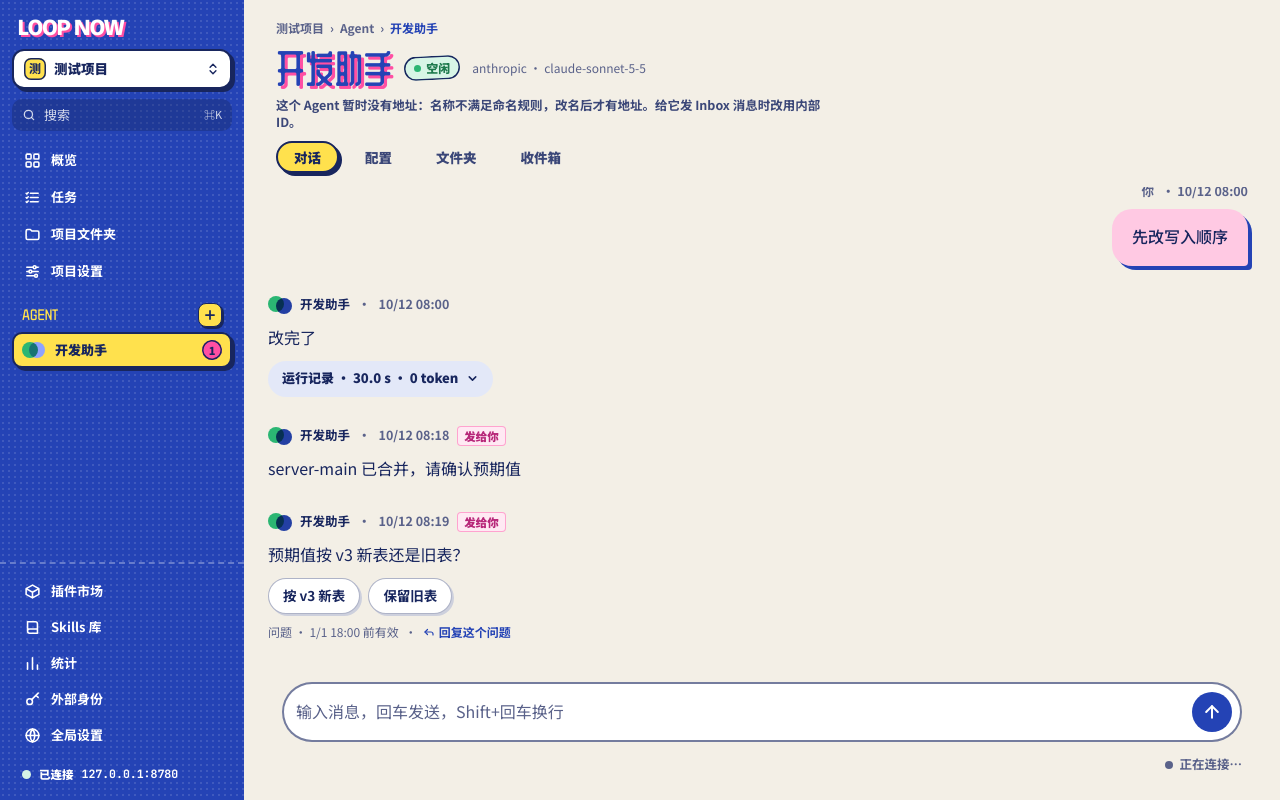
Test: Agent 对话里发给你的消息 › 文字没有记为答案（响应的 answerTo 不是原题）时说明已存为普通留言
The width and height of the screenshot is (1280, 800).
(page scrolled)
Expected: the element named "对话" is shown, [268, 187, 1256, 666]
Click the button "回复这个问题": click(467, 632) [423, 622, 511, 642]
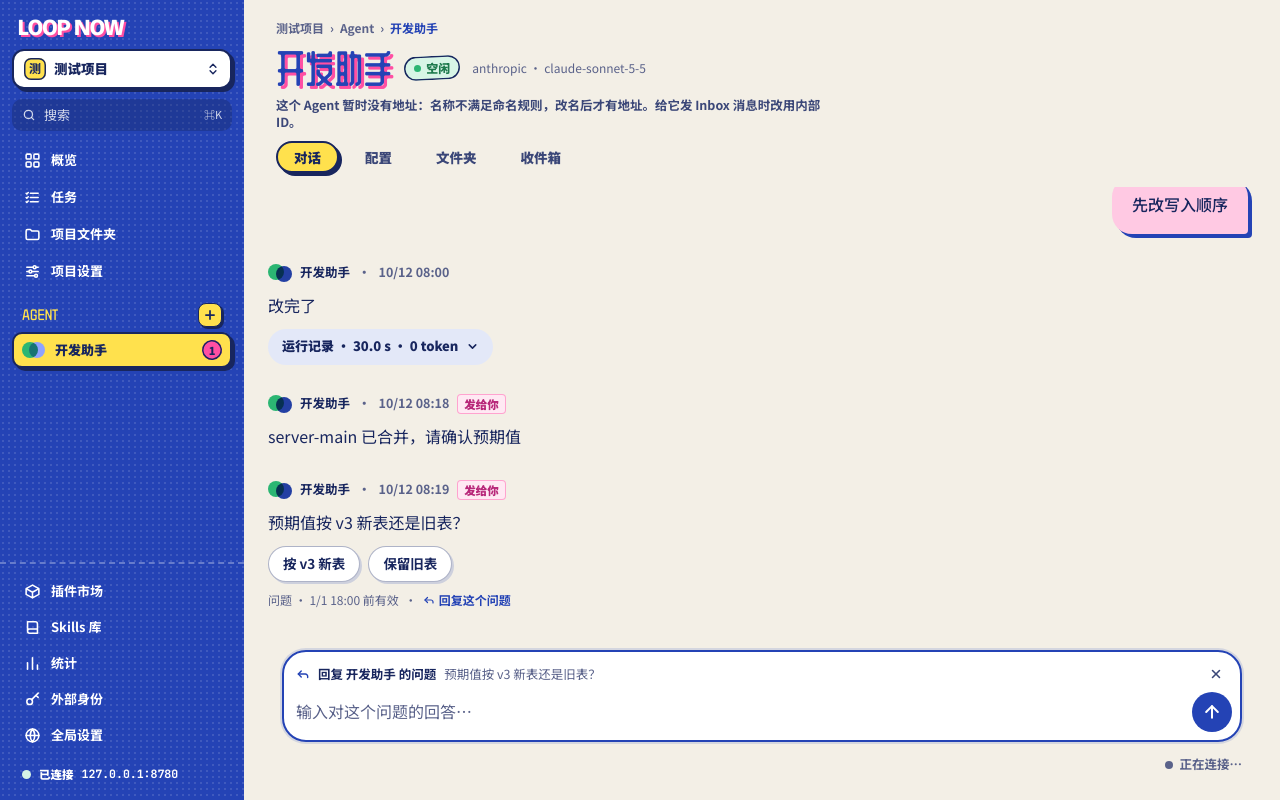
In the text box named "消息": (738, 712) [292, 692, 1184, 732], type "迟到的文字"
Then press Enter
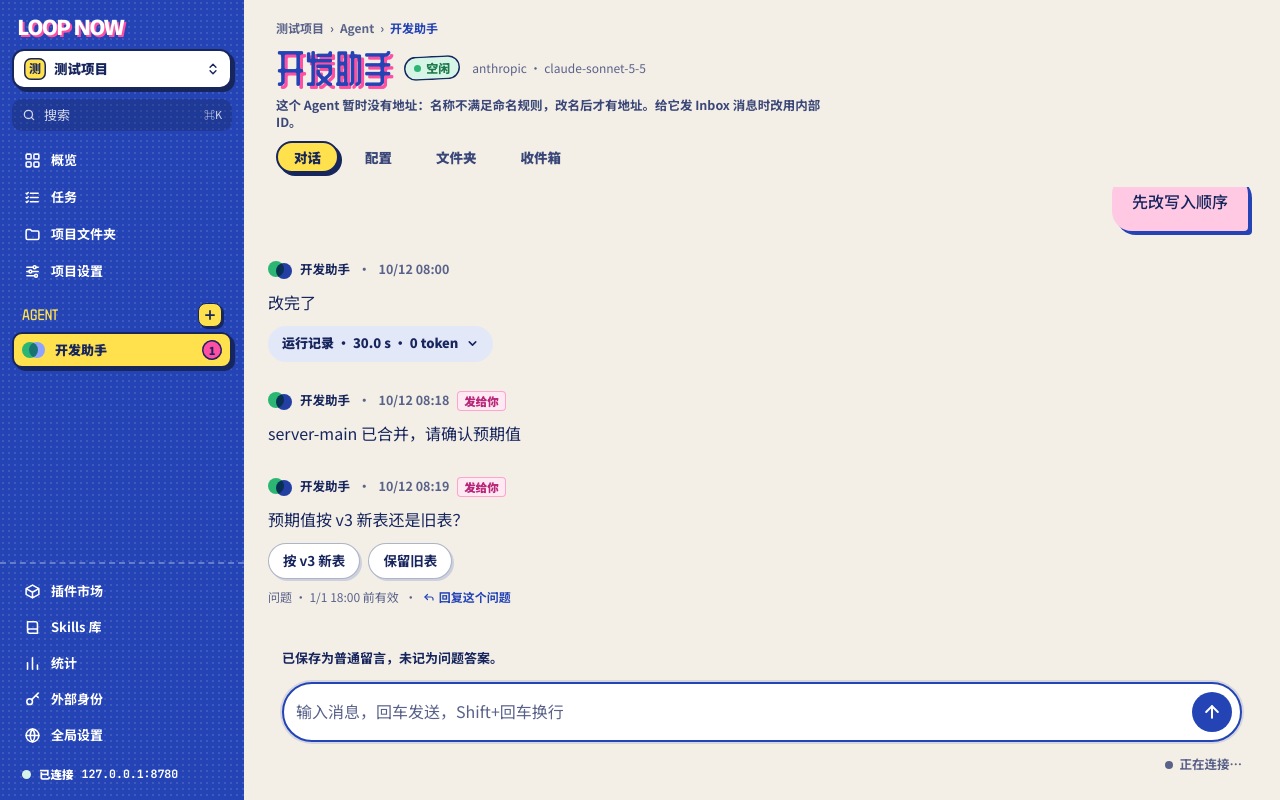
Result: the text "已保存为普通留言，未记为问题答案。" is shown at [282, 650, 503, 666]
